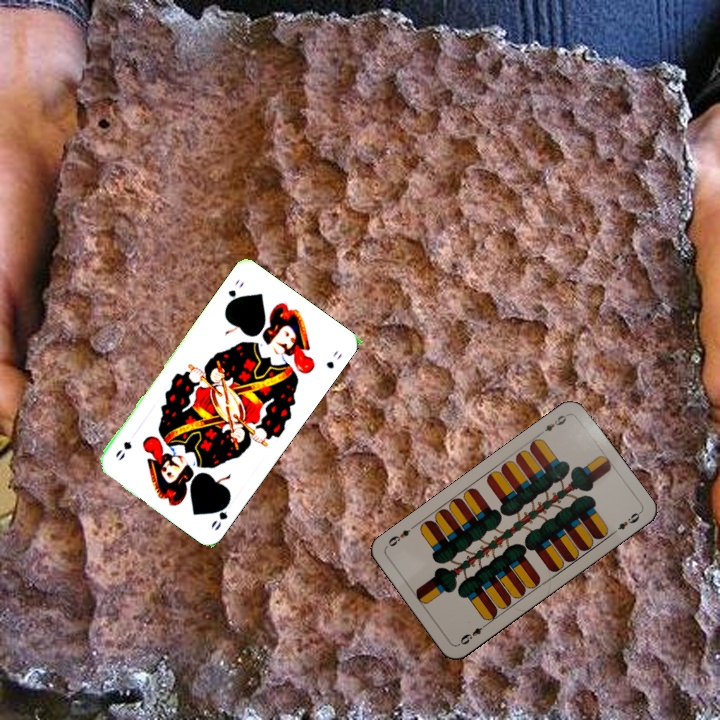E9: (455, 619, 490, 648), (536, 410, 571, 438)
GO: (207, 495, 233, 533), (222, 275, 247, 310)
